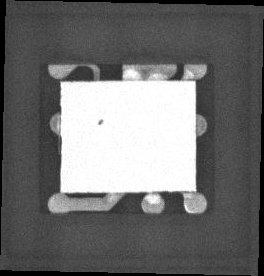DIE_INK: (92, 123, 99, 131)
